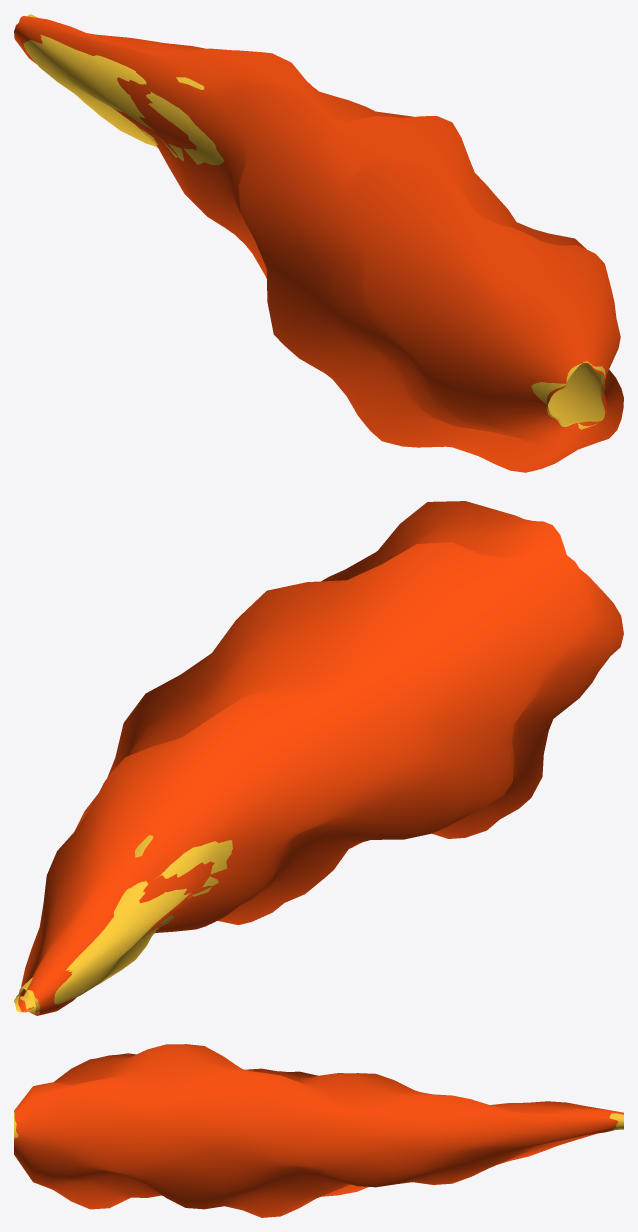
The model's file is flame_volume_v3_2.dae.
3 renders of one model, top to bottom at view 1: azimuth 30°, elevation 25°; view 2: azimuth 150°, elevation 25°; view 3: azimuth 270°, elevation 25°, orthographic. The views are drawn at different scales.
Visible parts, largest first — view 1: iaf_shell, iaf_core_mesh; view 2: iaf_shell, iaf_core_mesh; view 3: iaf_shell.
Boxes of the visible parts, bbox=[...] form: iaf_shell: bbox=[14, 16, 623, 472]; iaf_core_mesh: bbox=[23, 14, 605, 429]; iaf_shell: bbox=[18, 501, 623, 1015]; iaf_core_mesh: bbox=[14, 835, 232, 1013]; iaf_shell: bbox=[14, 1044, 623, 1217].
Size of the model in its own units: 0.2218 by 0.8 by 0.2227.
